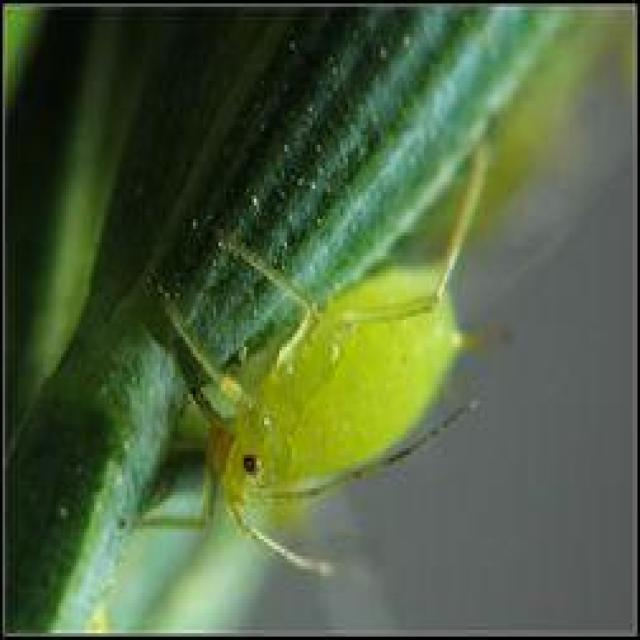Aphids: (133, 142, 512, 594)
